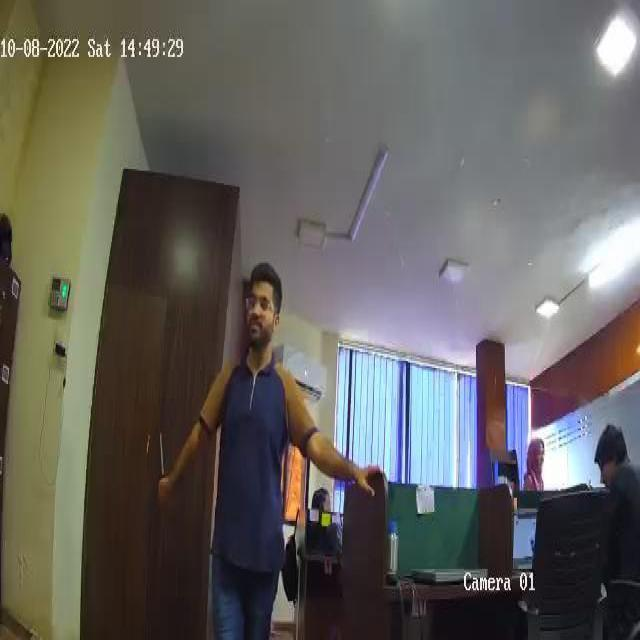faca: (157, 432, 168, 502)
